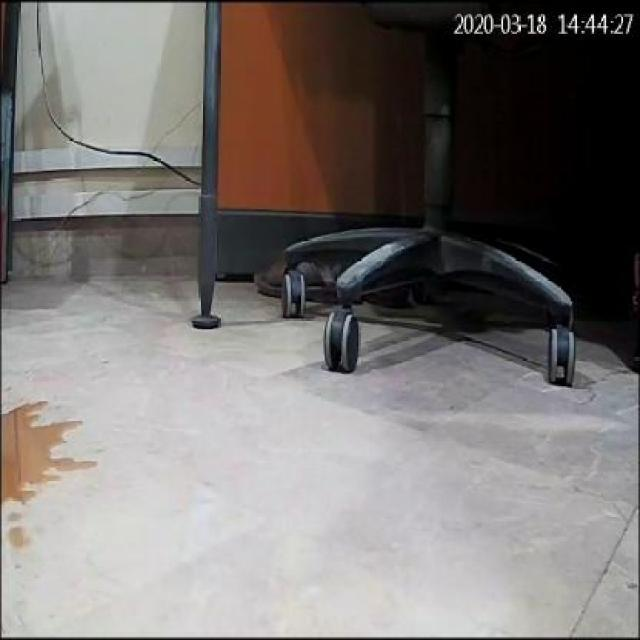spill: (3, 392, 99, 518)
